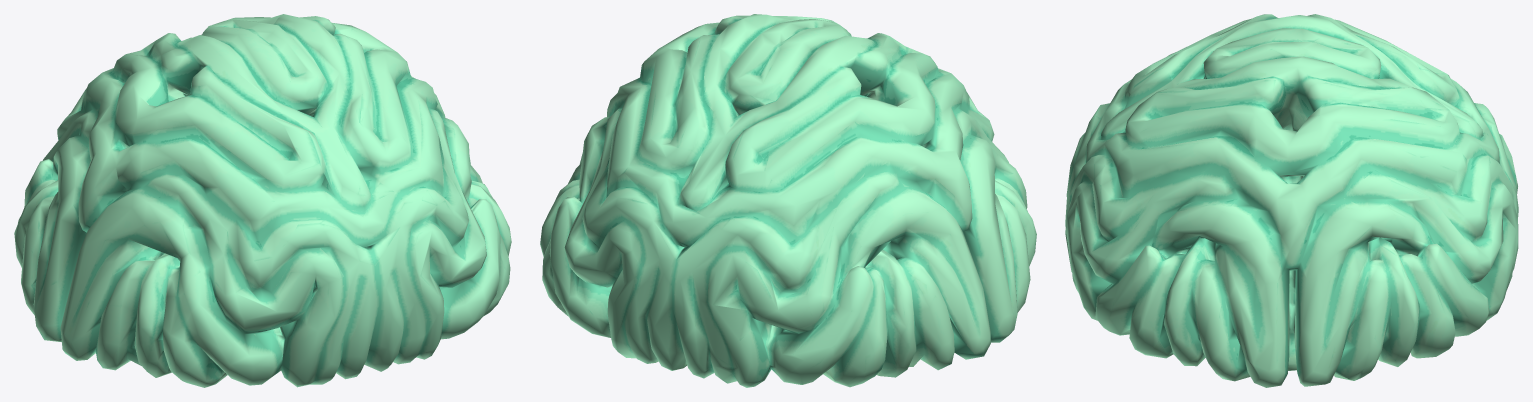
The model's file is coral5.glb.
3 views of the same model, side by side, from view 1: azimuth 30°, elevation 25°; view 2: azimuth 150°, elevation 25°; view 3: azimuth 270°, elevation 25° (orthographic). The views are drawn at different scales.
Visible parts, largest first — view 1: Mesh_0; view 2: Mesh_0; view 3: Mesh_0.
Part boxes in pixels (x1,y1,x2,y2): Mesh_0: (14,14,511,387); Mesh_0: (540,14,1036,387); Mesh_0: (1065,14,1518,387).
Bounding box in the file's own units: 1.9 × 1.14 × 1.83.
Materials: 1 (1 with a texture image).
